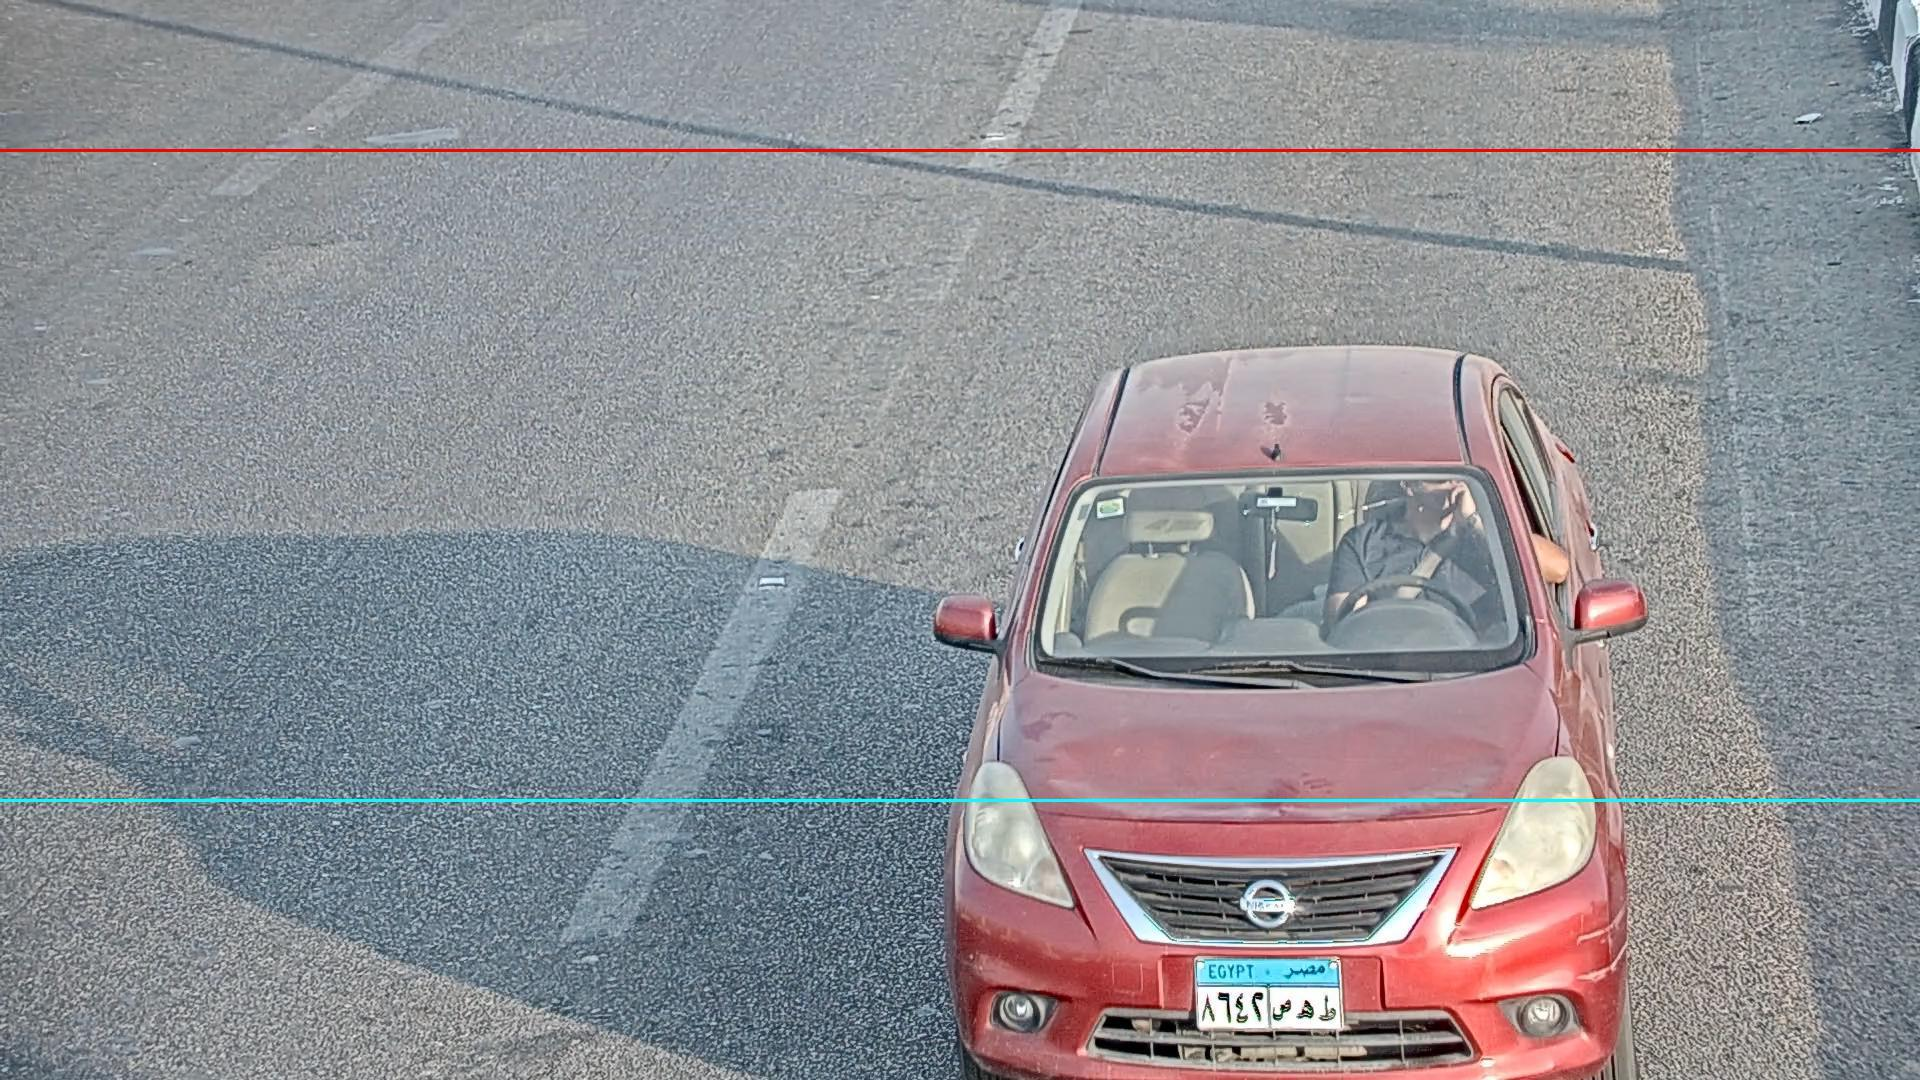windshield: (1014, 454, 1540, 700)
